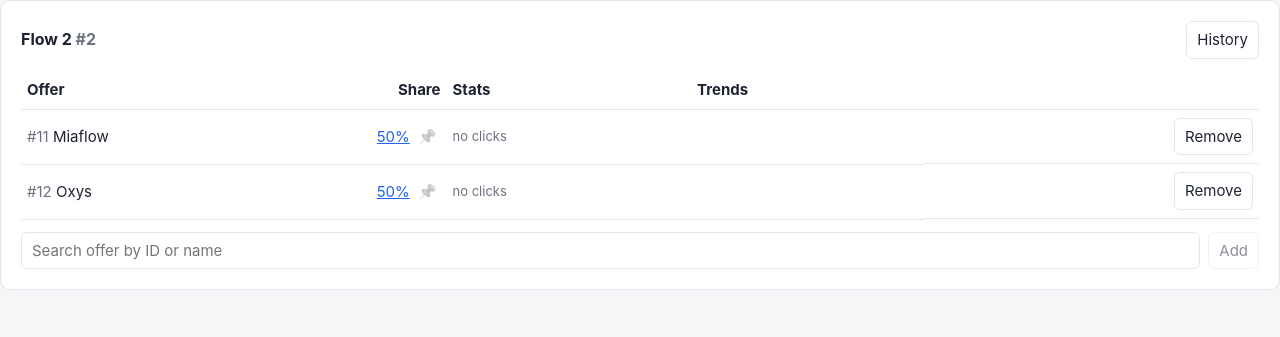
Test: StreamCard › shows API errors
This screenshot has width=1280, height=337.
Click the button "Remove" in the row of "11".
click(1214, 136)  # box x1=1174 y1=118 x2=1253 y2=155
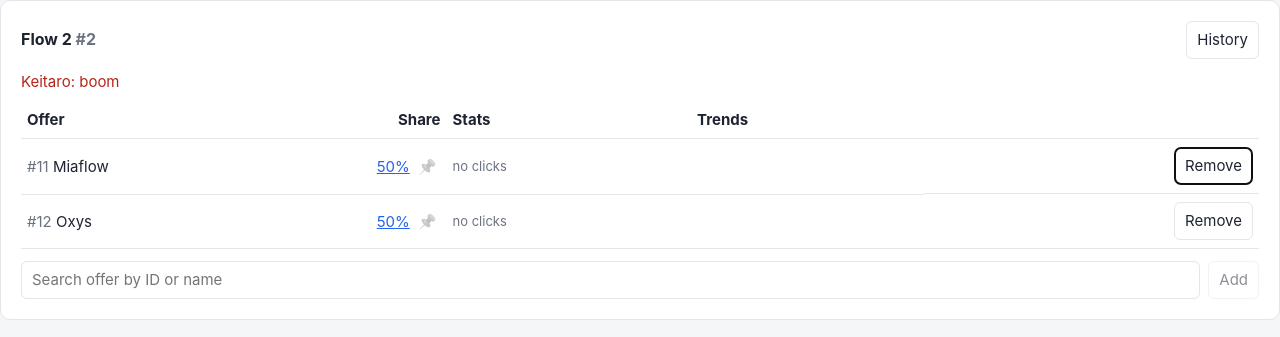
Expected: the message reads "Keitaro: boom", x1=21 y1=72 x2=120 y2=91
